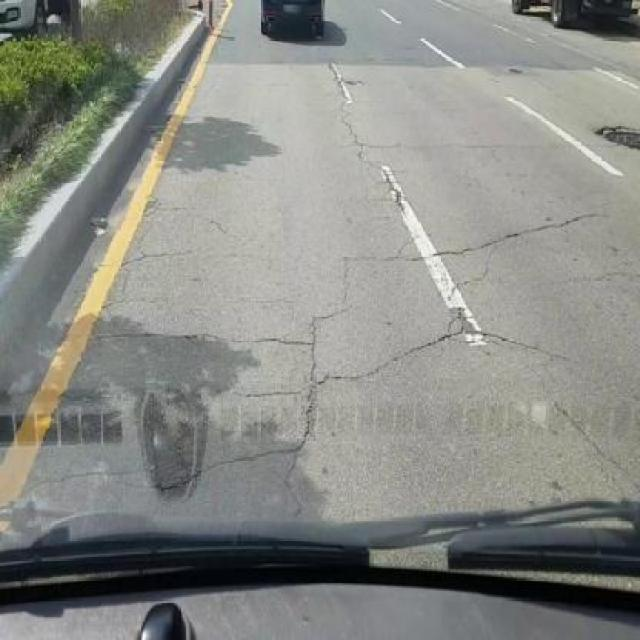Manhole: (594, 124, 640, 150)
Pothole: (340, 76, 366, 88), (508, 66, 524, 74)
